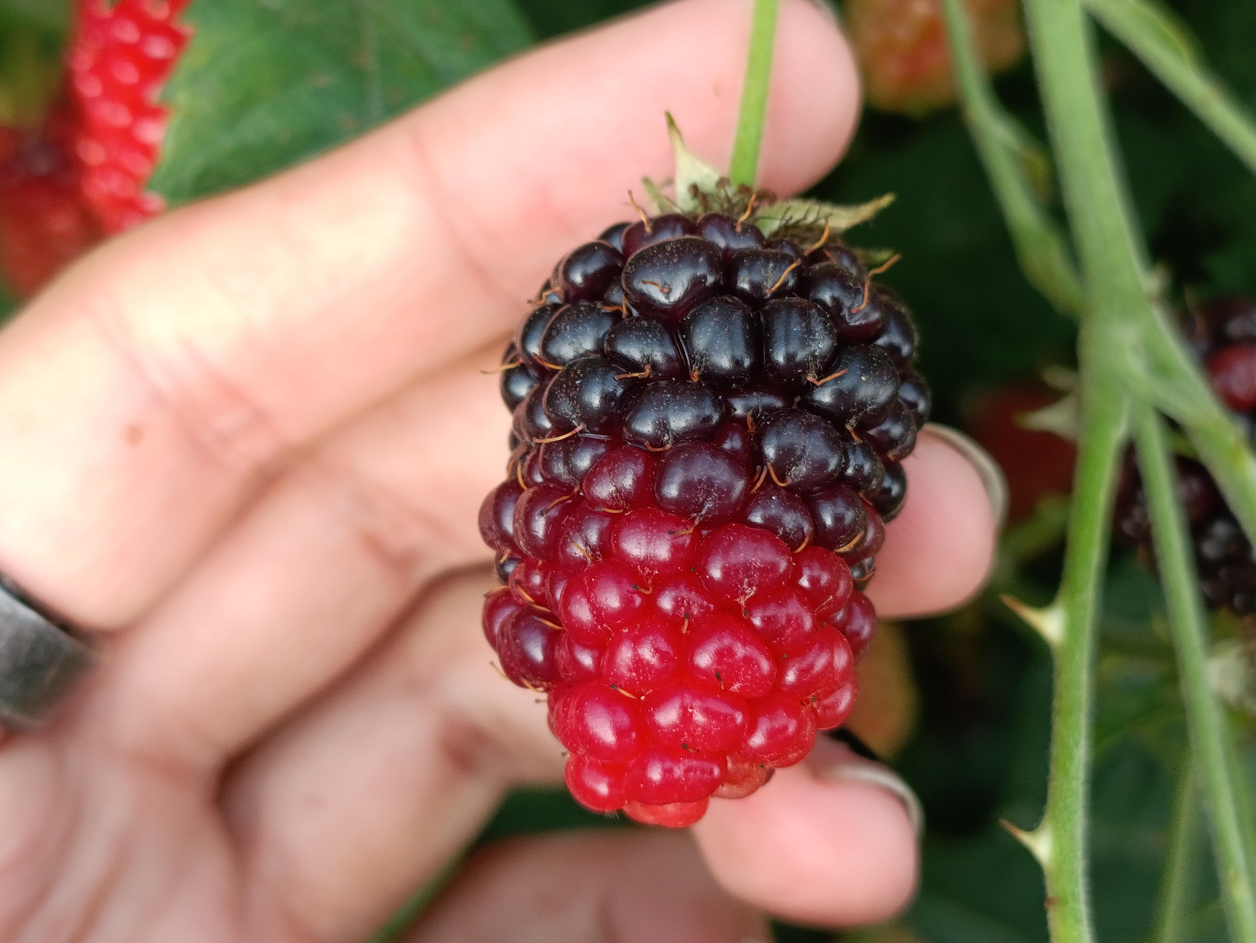marron: (489, 210, 933, 834)
